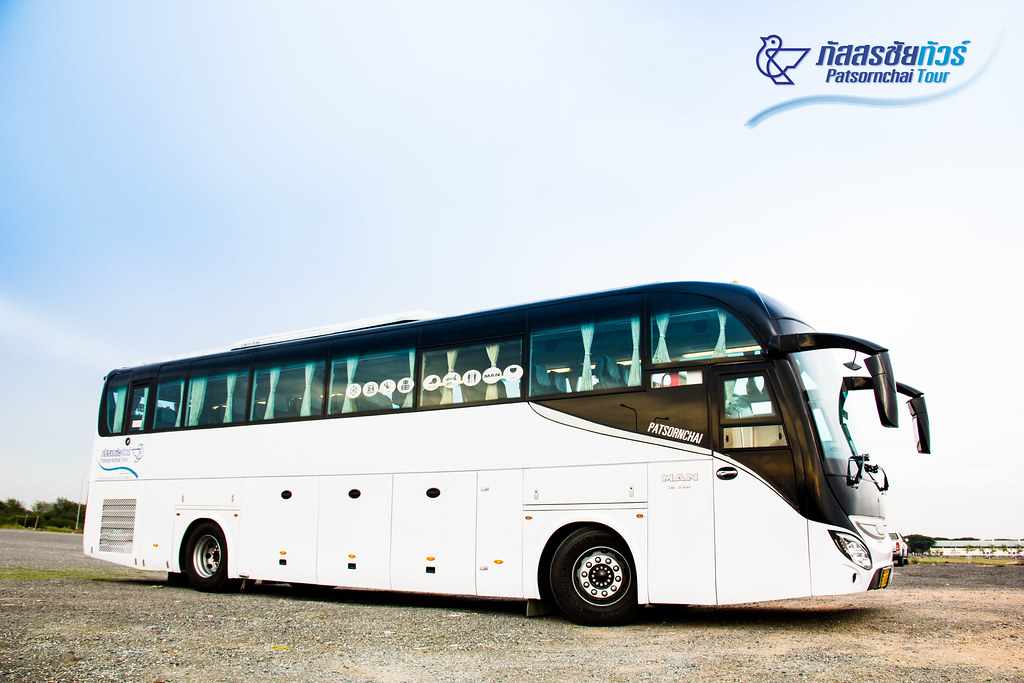bus: (86, 280, 895, 624)
